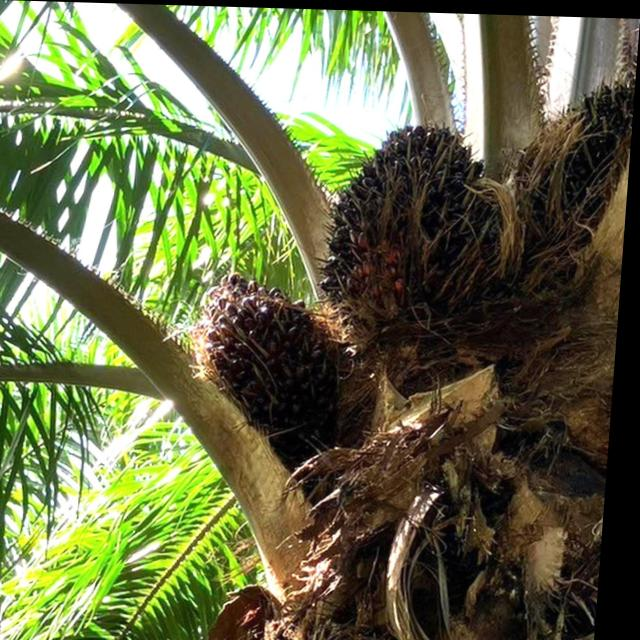ripe: (301, 107, 526, 357), (178, 259, 363, 459)
